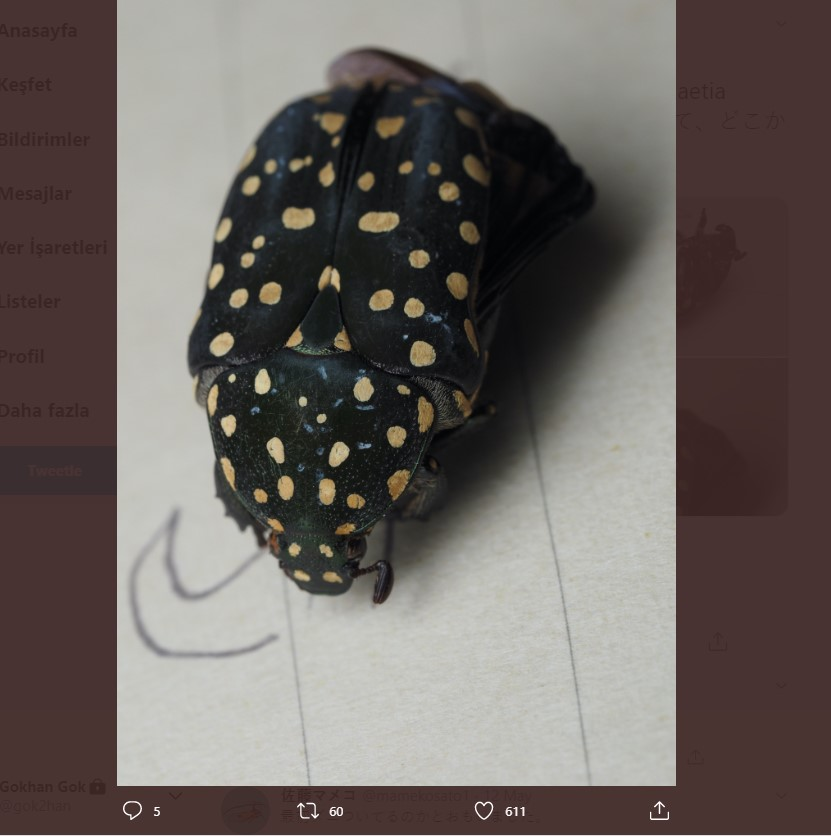Protaetia_niveoguttata: (176, 31, 608, 605)
